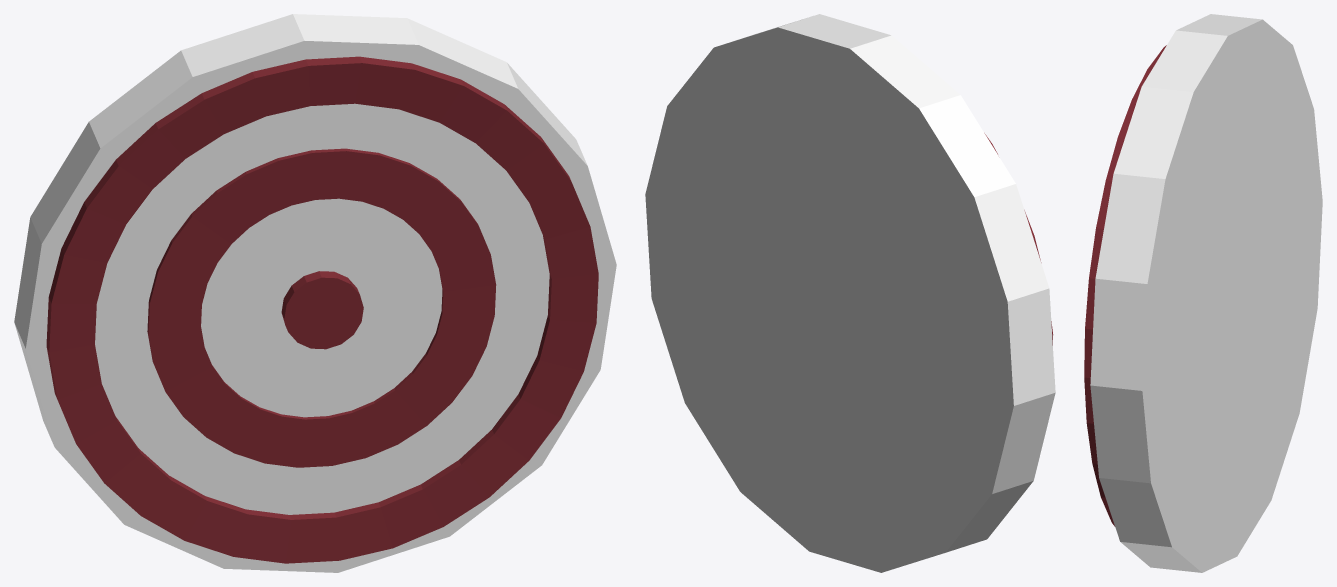
The model's file is TARGET_V1.fbx.
3 renders of one model, left to right at view 1: azimuth 30°, elevation 25°; view 2: azimuth 150°, elevation 25°; view 3: azimuth 270°, elevation 25°, orthographic. The views are drawn at different scales.
Parts seen in each view (by area): view 1: Cylinder; view 2: Cylinder; view 3: Cylinder.
Part boxes in pixels (box(x1,y1,x2,y2)): Cylinder: box(14, 14, 616, 572); Cylinder: box(645, 14, 1055, 572); Cylinder: box(1084, 14, 1322, 572).
Size of the model in its own units: 228 by 234 by 100.
